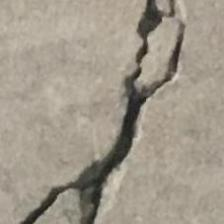Crack: (76, 0, 214, 224)
